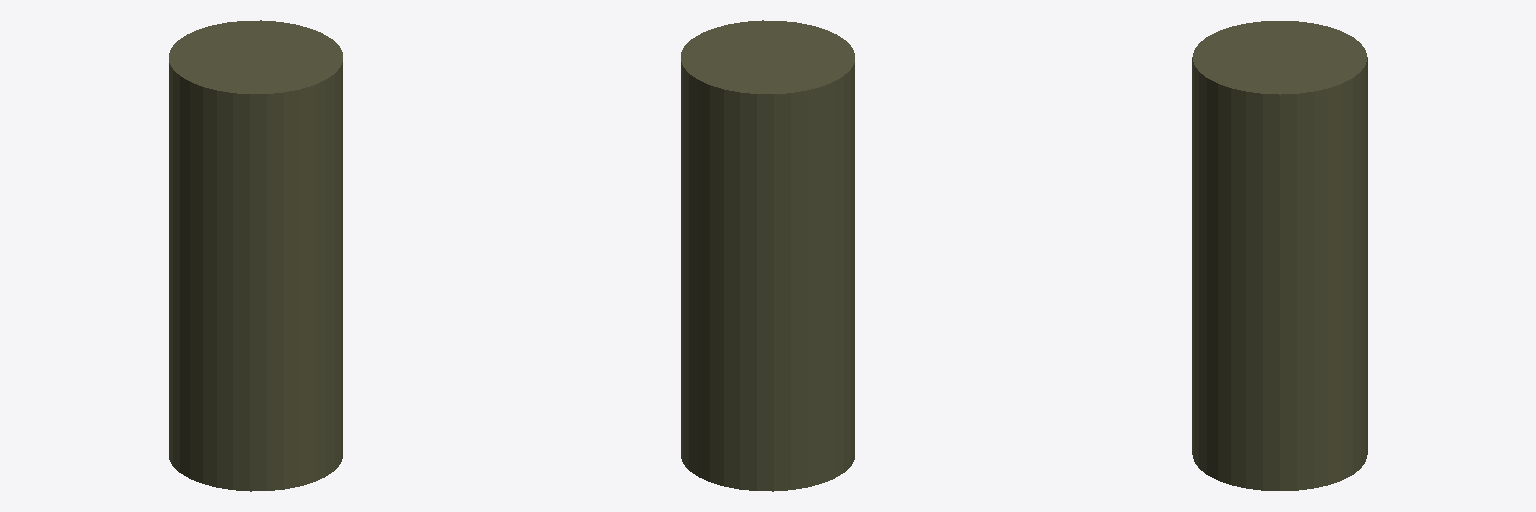
The robot description file, URDF, robot "sdh":
<?xml version="1.0" ?>
<!-- =================================================================================== -->
<!-- |    This document was autogenerated by xacro from ./sdh/urdf/sdh.urdf.xacro      | -->
<!-- |    EDITING THIS FILE BY HAND IS NOT RECOMMENDED                                 | -->
<!-- =================================================================================== -->
<robot name="sdh" xmlns:controller="http://playerstage.sourceforge.net/gazebo/xmlschema/#controller" xmlns:interface="http://playerstage.sourceforge.net/gazebo/xmlschema/#interface" xmlns:sensor="http://playerstage.sourceforge.net/gazebo/xmlschema/#sensor" xmlns:xacro="http://ros.org/wiki/xacro">
  <!-- common stuff -->
  <material name="Schunk/LightGrey">
    <color rgba="0.7 0.7 0.7 1.0"/>
  </material>
  <material name="Schunk/DarkGrey">
    <color rgba="0.4 0.4 0.4 1.0"/>
  </material>
  <material name="Schunk/Black">
    <color rgba="0.0 0.0 0.0 1.0"/>
  </material>
  <material name="Schunk/DarkGolden">
    <color rgba="0.4 0.4 0.3 1.0"/>
  </material>
  <material name="Schunk/Blue">
    <color rgba="0.0 0.0 0.8 1.0"/>
  </material>
  <gazebo>
    <plugin filename="libgazebo_ros_controller_manager.so" name="gazebo_ros_controller_manager">
      <alwaysOn>true</alwaysOn>
      <updateRate>1000.0</updateRate>
    </plugin>
    <plugin filename="libgazebo_ros_power_monitor.so" name="gazebo_ros_power_monitor_controller">
      <alwaysOn>true</alwaysOn>
      <updateRate>1.0</updateRate>
      <timeout>5</timeout>
      <powerStateTopic>power_state</powerStateTopic>
      <powerStateRate>10.0</powerStateRate>
      <fullChargeCapacity>87.78</fullChargeCapacity>
      <dischargeRate>-474</dischargeRate>
      <chargeRate>525</chargeRate>
      <dischargeVoltage>15.52</dischargeVoltage>
      <chargeVoltage>16.41</chargeVoltage>
    </plugin>
  </gazebo>
  <!-- schunk sdh -->
  <!-- foot for arm -->
  <link name="base_link">
    <inertial>
      <origin rpy="0 0 0" xyz="0 0 -10"/>
      <mass value="1000.0"/>
      <inertia ixx="100.0" ixy="0" ixz="0" iyy="100.0" iyz="0" izz="100.0"/>
    </inertial>
    <visual>
      <origin rpy="0 0 0" xyz="0 0 0.25"/>
      <geometry>
        <cylinder length="0.5" radius="0.1"/>
      </geometry>
      <material name="Schunk/DarkGolden"/>
    </visual>
    <collision>
      <origin rpy="0 0 0" xyz="0 0 0.25"/>
      <geometry>
        <cylinder length="0.5" radius="0.1"/>
      </geometry>
    </collision>
  </link>
  <!-- sdh -->
  <joint name="sdh_palm_joint" type="fixed">
    <origin rpy="0 0 0" xyz="0 0 0.5"/>
    <parent link="base_link"/>
    <child link="sdh_palm_link"/>
  </joint>
  <link name="sdh_palm_link">
    <inertial>
      <origin rpy="0 0 0" xyz="0 0 0"/>
      <mass value="1"/>
      <inertia ixx="0.01" ixy="0" ixz="0" iyy="0.01" iyz="0" izz="0.01"/>
    </inertial>
    <visual>
      <origin rpy="0 0 0" xyz="0 0 0"/>
      <geometry>
        <mesh filename="package://schunk_description/meshes/sdh/palm.dae"/>
      </geometry>
      <material name="Schunk/LightGrey"/>
    </visual>
    <collision>
      <origin rpy="0 0 0" xyz="0 0 0"/>
      <geometry>
        <mesh filename="package://schunk_description/meshes/sdh/palm.dae"/>
      </geometry>
    </collision>
  </link>
  <joint name="sdh_grasp_joint" type="fixed">
    <origin rpy="0 0 0" xyz="0 0 0.15"/>
    <parent link="sdh_palm_link"/>
    <child link="sdh_grasp_link"/>
  </joint>
  <link name="sdh_grasp_link"/>
  <joint name="sdh_tip_joint" type="fixed">
    <origin rpy="0 0 0" xyz="0 0 0.22"/>
    <parent link="sdh_palm_link"/>
    <child link="sdh_tip_link"/>
  </joint>
  <link name="sdh_tip_link"/>
  <joint name="sdh_knuckle_joint" type="revolute">
    <origin rpy="0 0 3.14159265" xyz="0.01905 0.033 0.0745"/>
    <parent link="sdh_palm_link"/>
    <child link="sdh_finger_11_link"/>
    <axis xyz="0 0 1"/>
    <dynamics damping="1"/>
    <limit effort="100" lower="0" upper="1.570796327" velocity="5"/>
  </joint>
  <link name="sdh_finger_11_link">
    <inertial>
      <origin rpy="0 0 0" xyz="0 0 0"/>
      <mass value="0.1"/>
      <inertia ixx="0.01" ixy="0" ixz="0" iyy="0.01" iyz="0" izz="0.01"/>
    </inertial>
    <visual>
      <origin rpy="0 0 0" xyz="0 0 0"/>
      <geometry>
        <mesh filename="package://schunk_description/meshes/sdh/knuckle.dae"/>
      </geometry>
      <material name="Schunk/LightGrey"/>
    </visual>
    <collision>
      <origin rpy="0 0 0" xyz="0 0 0"/>
      <geometry>
        <mesh filename="package://schunk_description/meshes/sdh/knuckle.dae"/>
      </geometry>
    </collision>
  </link>
  <joint name="sdh_finger_12_joint" type="revolute">
    <origin rpy="0 0 0" xyz="0 0 0.0165"/>
    <parent link="sdh_finger_11_link"/>
    <child link="sdh_finger_12_link"/>
    <axis xyz="0 1 0"/>
    <dynamics damping="1"/>
    <limit effort="100" lower="-1.570796327" upper="1.570796327" velocity="5"/>
  </joint>
  <link name="sdh_finger_12_link">
    <inertial>
      <origin rpy="0 0 0" xyz="0 0 0"/>
      <mass value="0.1"/>
      <inertia ixx="0.01" ixy="0" ixz="0" iyy="0.01" iyz="0" izz="0.01"/>
    </inertial>
    <visual>
      <origin rpy="0 0 0" xyz="0 0 0"/>
      <geometry>
        <mesh filename="package://schunk_description/meshes/sdh/finger.dae"/>
      </geometry>
      <material name="Schunk/LightGrey"/>
    </visual>
    <collision>
      <origin rpy="0 0 0" xyz="0 0 0"/>
      <geometry>
        <mesh filename="package://schunk_description/meshes/sdh/finger.dae"/>
      </geometry>
    </collision>
  </link>
  <joint name="sdh_finger_13_joint" type="revolute">
    <origin rpy="0 0 0" xyz="0 0 0.0865"/>
    <parent link="sdh_finger_12_link"/>
    <child link="sdh_finger_13_link"/>
    <axis xyz="0 1 0"/>
    <dynamics damping="1"/>
    <limit effort="100" lower="-1.570796327" upper="1.570796327" velocity="5"/>
  </joint>
  <link name="sdh_finger_13_link">
    <inertial>
      <origin rpy="0 0 0" xyz="0 0 0"/>
      <mass value="0.1"/>
      <inertia ixx="0.01" ixy="0" ixz="0" iyy="0.01" iyz="0" izz="0.01"/>
    </inertial>
    <visual>
      <origin rpy="0 0 0" xyz="0 0 0"/>
      <geometry>
        <mesh filename="package://schunk_description/meshes/sdh/finger_tip.dae"/>
      </geometry>
      <material name="Schunk/LightGrey"/>
    </visual>
    <collision>
      <origin rpy="0 0 0" xyz="0 0 0"/>
      <geometry>
        <mesh filename="package://schunk_description/meshes/sdh/finger_tip.dae"/>
      </geometry>
    </collision>
  </link>
  <joint name="sdh_finger_21_joint" type="revolute">
    <mimic joint="sdh_knuckle_joint" multiplier="1" offset="0"/>
    <origin rpy="0 0 3.14159265" xyz="0.01905 -0.033 0.0745"/>
    <parent link="sdh_palm_link"/>
    <child link="sdh_finger_21_link"/>
    <axis xyz="0 0 -1"/>
    <dynamics damping="1"/>
    <limit effort="100" lower="0" upper="1.570796327" velocity="5"/>
  </joint>
  <link name="sdh_finger_21_link">
    <inertial>
      <origin rpy="0 0 0" xyz="0 0 0"/>
      <mass value="0.1"/>
      <inertia ixx="0.01" ixy="0" ixz="0" iyy="0.01" iyz="0" izz="0.01"/>
    </inertial>
    <visual>
      <origin rpy="0 0 0" xyz="0 0 0"/>
      <geometry>
        <mesh filename="package://schunk_description/meshes/sdh/knuckle.dae"/>
      </geometry>
      <material name="Schunk/LightGrey"/>
    </visual>
    <collision>
      <origin rpy="0 0 0" xyz="0 0 0"/>
      <geometry>
        <mesh filename="package://schunk_description/meshes/sdh/knuckle.dae"/>
      </geometry>
    </collision>
  </link>
  <joint name="sdh_finger_22_joint" type="revolute">
    <origin rpy="0 0 0" xyz="0 0 0.0165"/>
    <parent link="sdh_finger_21_link"/>
    <child link="sdh_finger_22_link"/>
    <axis xyz="0 1 0"/>
    <dynamics damping="1"/>
    <limit effort="100" lower="-1.570796327" upper="1.570796327" velocity="5"/>
  </joint>
  <link name="sdh_finger_22_link">
    <inertial>
      <origin rpy="0 0 0" xyz="0 0 0"/>
      <mass value="0.1"/>
      <inertia ixx="0.01" ixy="0" ixz="0" iyy="0.01" iyz="0" izz="0.01"/>
    </inertial>
    <visual>
      <origin rpy="0 0 0" xyz="0 0 0"/>
      <geometry>
        <mesh filename="package://schunk_description/meshes/sdh/finger.dae"/>
      </geometry>
      <material name="Schunk/LightGrey"/>
    </visual>
    <collision>
      <origin rpy="0 0 0" xyz="0 0 0"/>
      <geometry>
        <mesh filename="package://schunk_description/meshes/sdh/finger.dae"/>
      </geometry>
    </collision>
  </link>
  <joint name="sdh_finger_23_joint" type="revolute">
    <origin rpy="0 0 0" xyz="0 0 0.0865"/>
    <parent link="sdh_finger_22_link"/>
    <child link="sdh_finger_23_link"/>
    <axis xyz="0 1 0"/>
    <dynamics damping="1"/>
    <limit effort="100" lower="-1.570796327" upper="1.570796327" velocity="5"/>
  </joint>
  <link name="sdh_finger_23_link">
    <inertial>
      <origin rpy="0 0 0" xyz="0 0 0"/>
      <mass value="0.1"/>
      <inertia ixx="0.01" ixy="0" ixz="0" iyy="0.01" iyz="0" izz="0.01"/>
    </inertial>
    <visual>
      <origin rpy="0 0 0" xyz="0 0 0"/>
      <geometry>
        <mesh filename="package://schunk_description/meshes/sdh/finger_tip.dae"/>
      </geometry>
      <material name="Schunk/LightGrey"/>
    </visual>
    <collision>
      <origin rpy="0 0 0" xyz="0 0 0"/>
      <geometry>
        <mesh filename="package://schunk_description/meshes/sdh/finger_tip.dae"/>
      </geometry>
    </collision>
  </link>
  <joint name="sdh_thumb_1_joint" type="fixed">
    <origin rpy="0 0 0" xyz="-0.03811 0 0.0745 "/>
    <parent link="sdh_palm_link"/>
    <child link="sdh_thumb_1_link"/>
  </joint>
  <link name="sdh_thumb_1_link">
    <inertial>
      <origin rpy="0 0 0" xyz="0 0 0"/>
      <mass value="0.1"/>
      <inertia ixx="0.01" ixy="0" ixz="0" iyy="0.01" iyz="0" izz="0.01"/>
    </inertial>
    <visual>
      <origin rpy="0 0 0" xyz="0 0 0"/>
      <geometry>
        <mesh filename="package://schunk_description/meshes/sdh/knuckle.dae"/>
      </geometry>
      <material name="Schunk/LightGrey"/>
    </visual>
    <collision>
      <origin rpy="0 0 0" xyz="0 0 0"/>
      <geometry>
        <mesh filename="package://schunk_description/meshes/sdh/knuckle.dae"/>
      </geometry>
    </collision>
  </link>
  <joint name="sdh_thumb_2_joint" type="revolute">
    <origin rpy="0 0 0" xyz="0 0 0.0165"/>
    <parent link="sdh_thumb_1_link"/>
    <child link="sdh_thumb_2_link"/>
    <axis xyz="0 1 0"/>
    <dynamics damping="1"/>
    <limit effort="100" lower="-1.570796327" upper="1.570796327" velocity="5"/>
  </joint>
  <link name="sdh_thumb_2_link">
    <inertial>
      <origin rpy="0 0 0" xyz="0 0 0"/>
      <mass value="0.1"/>
      <inertia ixx="0.01" ixy="0" ixz="0" iyy="0.01" iyz="0" izz="0.01"/>
    </inertial>
    <visual>
      <origin rpy="0 0 0" xyz="0 0 0"/>
      <geometry>
        <mesh filename="package://schunk_description/meshes/sdh/finger.dae"/>
      </geometry>
      <material name="Schunk/LightGrey"/>
    </visual>
    <collision>
      <origin rpy="0 0 0" xyz="0 0 0"/>
      <geometry>
        <mesh filename="package://schunk_description/meshes/sdh/finger.dae"/>
      </geometry>
    </collision>
  </link>
  <joint name="sdh_thumb_3_joint" type="revolute">
    <origin rpy="0 0 0" xyz="0 0 0.0865"/>
    <parent link="sdh_thumb_2_link"/>
    <child link="sdh_thumb_3_link"/>
    <axis xyz="0 1 0"/>
    <dynamics damping="1"/>
    <limit effort="100" lower="-1.570796327" upper="1.570796327" velocity="5"/>
  </joint>
  <link name="sdh_thumb_3_link">
    <inertial>
      <origin rpy="0 0 0" xyz="0 0 0"/>
      <mass value="0.1"/>
      <inertia ixx="0.01" ixy="0" ixz="0" iyy="0.01" iyz="0" izz="0.01"/>
    </inertial>
    <visual>
      <origin rpy="0 0 0" xyz="0 0 0"/>
      <geometry>
        <mesh filename="package://schunk_description/meshes/sdh/finger_tip.dae"/>
      </geometry>
      <material name="Schunk/LightGrey"/>
    </visual>
    <collision>
      <origin rpy="0 0 0" xyz="0 0 0"/>
      <geometry>
        <mesh filename="package://schunk_description/meshes/sdh/finger_tip.dae"/>
      </geometry>
    </collision>
  </link>
  <gazebo reference="sdh_palm_link">
    <material>Schunk/LightGrey</material>
    <turnGravityOff>false</turnGravityOff>
  </gazebo>
  <gazebo reference="sdh_finger_11_link">
    <material>Schunk/LightGrey</material>
    <turnGravityOff>false</turnGravityOff>
  </gazebo>
  <gazebo reference="sdh_finger_12_link">
    <selfCollide>true</selfCollide>
    <sensor name="sdh_finger_12_contact_sensor" type="contact">
      <always_on>true</always_on>
      <update_rate>100</update_rate>
      <contact>
        <collision>sdh_finger_12_link_geom</collision>
      </contact>
      <plugin filename="libgazebo_ros_bumper.so" name="sdh_finger_12_gazebo_ros_bumper_controller">
        <alwaysOn>true</alwaysOn>
        <updateRate>100.0</updateRate>
        <frameName>sdh_finger_12_link</frameName>
        <bumperTopicName>sdh_finger_12_bumper</bumperTopicName>
      </plugin>
    </sensor>
    <material>Schunk/LightGrey</material>
    <turnGravityOff>false</turnGravityOff>
  </gazebo>
  <gazebo reference="sdh_finger_13_link">
    <selfCollide>true</selfCollide>
    <sensor name="sdh_finger_13_contact_sensor" type="contact">
      <always_on>true</always_on>
      <update_rate>100</update_rate>
      <contact>
        <collision>sdh_finger_13_link_geom</collision>
      </contact>
      <plugin filename="libgazebo_ros_bumper.so" name="sdh_finger_13_gazebo_ros_bumper_controller">
        <alwaysOn>true</alwaysOn>
        <updateRate>100.0</updateRate>
        <frameName>sdh_finger_13_link</frameName>
        <bumperTopicName>sdh_finger_13_bumper</bumperTopicName>
      </plugin>
    </sensor>
    <material>Schunk/LightGrey</material>
  </gazebo>
  <gazebo reference="sdh_finger_21_link">
    <material>Schunk/LightGrey</material>
    <turnGravityOff>false</turnGravityOff>
  </gazebo>
  <gazebo reference="sdh_finger_22_link">
    <selfCollide>true</selfCollide>
    <sensor name="sdh_finger_22_contact_sensor" type="contact">
      <always_on>true</always_on>
      <update_rate>100</update_rate>
      <contact>
        <collision>sdh_finger_22_link_geom</collision>
      </contact>
      <plugin filename="libgazebo_ros_bumper.so" name="sdh_finger_22_gazebo_ros_bumper_controller">
        <alwaysOn>true</alwaysOn>
        <updateRate>100.0</updateRate>
        <frameName>sdh_finger_22_link</frameName>
        <bumperTopicName>sdh_finger_22_bumper</bumperTopicName>
      </plugin>
    </sensor>
    <material>Schunk/LightGrey</material>
    <turnGravityOff>false</turnGravityOff>
  </gazebo>
  <gazebo reference="sdh_finger_23_link">
    <selfCollide>true</selfCollide>
    <sensor name="sdh_finger_23_contact_sensor" type="contact">
      <always_on>true</always_on>
      <update_rate>100</update_rate>
      <contact>
        <collision>sdh_finger_23_link_geom</collision>
      </contact>
      <plugin filename="libgazebo_ros_bumper.so" name="sdh_finger_23_gazebo_ros_bumper_controller">
        <alwaysOn>true</alwaysOn>
        <updateRate>100.0</updateRate>
        <frameName>sdh_finger_23_link</frameName>
        <bumperTopicName>sdh_finger_23_bumper</bumperTopicName>
      </plugin>
    </sensor>
    <material>Schunk/LightGrey</material>
  </gazebo>
  <gazebo reference="sdh_thumb_1_link">
    <material>Schunk/LightGrey</material>
    <turnGravityOff>false</turnGravityOff>
  </gazebo>
  <gazebo reference="sdh_thumb_2_link">
    <selfCollide>true</selfCollide>
    <sensor name="sdh_thumb_2_contact_sensor" type="contact">
      <always_on>true</always_on>
      <update_rate>100</update_rate>
      <contact>
        <collision>sdh_thumb_2_link_geom</collision>
      </contact>
      <plugin filename="libgazebo_ros_bumper.so" name="sdh_thumb_2_gazebo_ros_bumper_controller">
        <alwaysOn>true</alwaysOn>
        <updateRate>100.0</updateRate>
        <frameName>sdh_thumb_2_link</frameName>
        <bumperTopicName>sdh_thumb_2_bumper</bumperTopicName>
      </plugin>
    </sensor>
    <material>Schunk/LightGrey</material>
    <turnGravityOff>false</turnGravityOff>
  </gazebo>
  <gazebo reference="sdh_thumb_3_link">
    <selfCollide>true</selfCollide>
    <sensor name="sdh_thumb_3_contact_sensor" type="contact">
      <always_on>true</always_on>
      <update_rate>100</update_rate>
      <contact>
        <collision>sdh_thumb_3_link_geom</collision>
      </contact>
      <plugin filename="libgazebo_ros_bumper.so" name="sdh_thumb_3_gazebo_ros_bumper_controller">
        <alwaysOn>true</alwaysOn>
        <updateRate>100.0</updateRate>
        <frameName>sdh_thumb_3_link</frameName>
        <bumperTopicName>sdh_thumb_3_bumper</bumperTopicName>
      </plugin>
    </sensor>
    <material>Schunk/LightGrey</material>
  </gazebo>
  <transmission name="sdh_knuckle_trans" type="pr2_mechanism_model/SimpleTransmission">
    <actuator name="sdh_knuckle_motor"/>
    <joint name="sdh_finger_21_joint"/>
    <mechanicalReduction>1</mechanicalReduction>
  </transmission>
  <transmission name="sdh_knuckle_trans" type="pr2_mechanism_model/SimpleTransmission">
    <actuator name="sdh_knuckle_motor"/>
    <joint name="sdh_knuckle_joint"/>
    <mechanicalReduction>1</mechanicalReduction>
  </transmission>
  <transmission name="sdh_finger_12_trans" type="pr2_mechanism_model/SimpleTransmission">
    <actuator name="sdh_finger_12_motor"/>
    <joint name="sdh_finger_12_joint"/>
    <mechanicalReduction>1</mechanicalReduction>
  </transmission>
  <transmission name="sdh_finger_13_trans" type="pr2_mechanism_model/SimpleTransmission">
    <actuator name="sdh_finger_13_motor"/>
    <joint name="sdh_finger_13_joint"/>
    <mechanicalReduction>1</mechanicalReduction>
  </transmission>
  <transmission name="sdh_finger_22_trans" type="pr2_mechanism_model/SimpleTransmission">
    <actuator name="sdh_finger_22_motor"/>
    <joint name="sdh_finger_22_joint"/>
    <mechanicalReduction>1</mechanicalReduction>
  </transmission>
  <transmission name="sdh_finger_23_trans" type="pr2_mechanism_model/SimpleTransmission">
    <actuator name="sdh_finger_23_motor"/>
    <joint name="sdh_finger_23_joint"/>
    <mechanicalReduction>1</mechanicalReduction>
  </transmission>
  <transmission name="sdh_thumb_2_trans" type="pr2_mechanism_model/SimpleTransmission">
    <actuator name="sdh_thumb_2_motor"/>
    <joint name="sdh_thumb_2_joint"/>
    <mechanicalReduction>1</mechanicalReduction>
  </transmission>
  <transmission name="sdh_thumb_3_trans" type="pr2_mechanism_model/SimpleTransmission">
    <actuator name="sdh_thumb_3_motor"/>
    <joint name="sdh_thumb_3_joint"/>
    <mechanicalReduction>1</mechanicalReduction>
  </transmission>
</robot>

--- Render facts (derived) ---
3 views of the same robot in one strip: view 1: azimuth 30°, elevation 25°; view 2: azimuth 150°, elevation 25°; view 3: azimuth 270°, elevation 25° (orthographic).
Robot: sdh — 13 links, 12 joints (8 revolute, 4 fixed); root link base_link; default pose: every joint at zero.
Links seen in each view (by area): view 1: base_link; view 2: base_link; view 3: base_link.
Boxes of the visible links, <box> form: base_link: <box>169,20,342,491</box>; base_link: <box>681,20,854,491</box>; base_link: <box>1192,21,1367,490</box>.
Bounding box of the posed robot: 0.2 × 0.2 × 0.5 m (x, y, z).
0 mesh visuals loaded from 4 distinct referenced files (none loaded); not drawn: 10 (file found but could not be loaded).